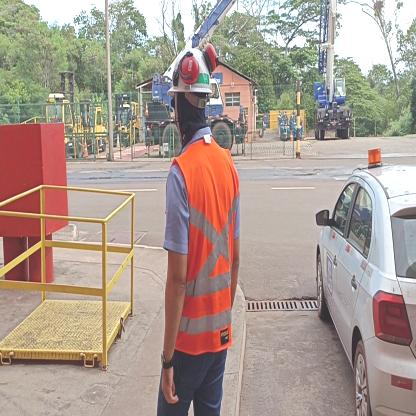Balaclava: (176, 92, 208, 142)
Capacete: (172, 49, 217, 99)
colete: (169, 143, 236, 358)
